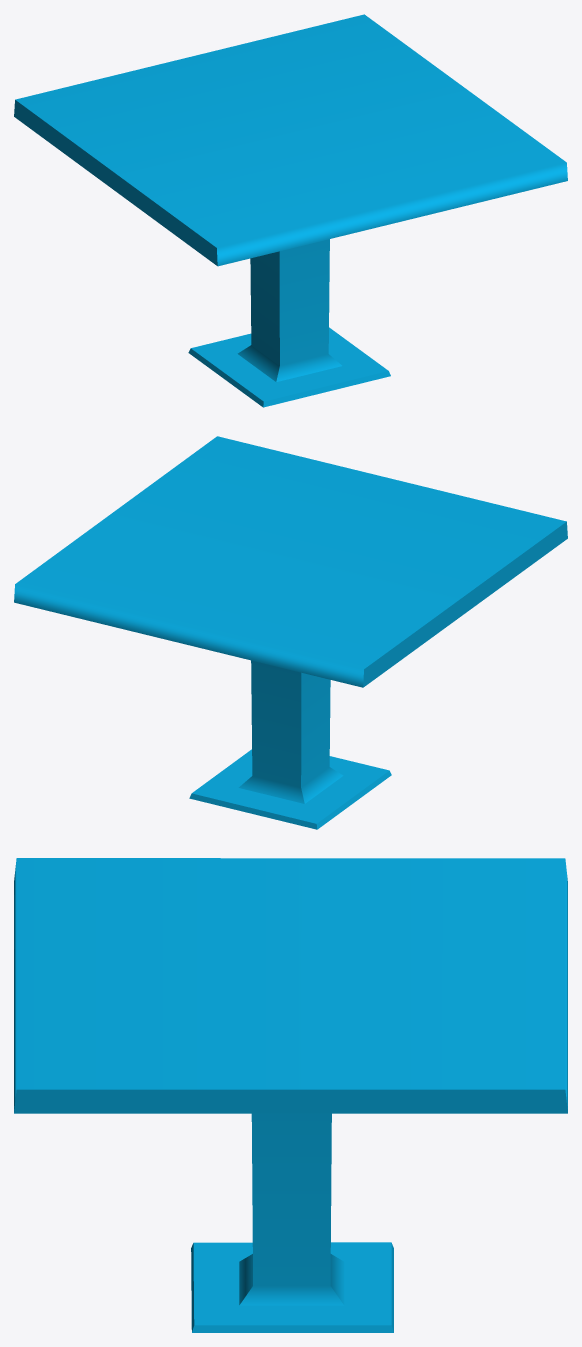
Rendered from Restaurant_Table_01_Lod2.fbx.
3 views of the same model, one above another, from view 1: azimuth 30°, elevation 25°; view 2: azimuth 150°, elevation 25°; view 3: azimuth 270°, elevation 25° (orthographic). The views are drawn at different scales.
Visible parts, largest first — view 1: Restaurant_Table_01_Lod2; view 2: Restaurant_Table_01_Lod2; view 3: Restaurant_Table_01_Lod2.
Part boxes in pixels (left/top/right/bottom): Restaurant_Table_01_Lod2: left=14, top=14, right=567, bottom=407; Restaurant_Table_01_Lod2: left=14, top=436, right=567, bottom=829; Restaurant_Table_01_Lod2: left=14, top=858, right=567, bottom=1332.
Bounding box in the file's own units: 120 × 76.82 × 122.
